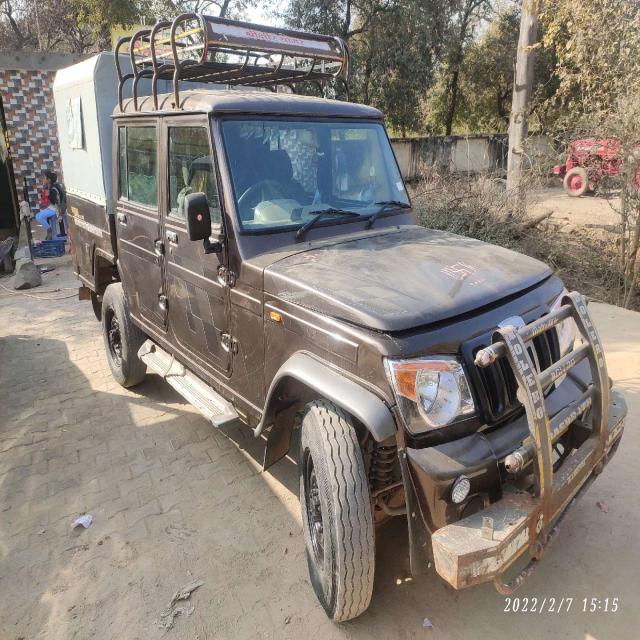light_vehicle: (57, 80, 623, 530)
